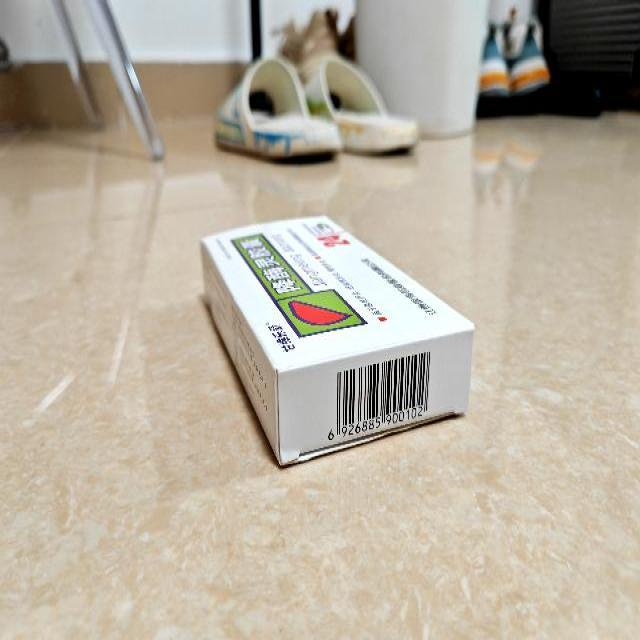box: (200, 213, 476, 470)
